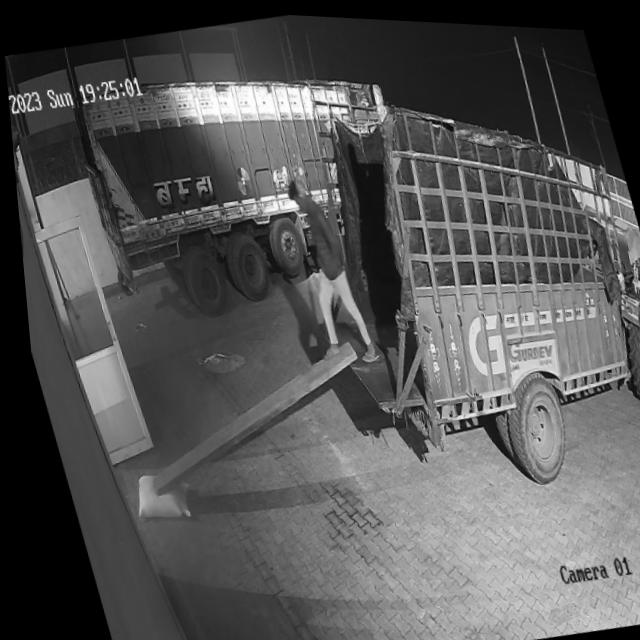sack: (119, 465, 186, 525)
